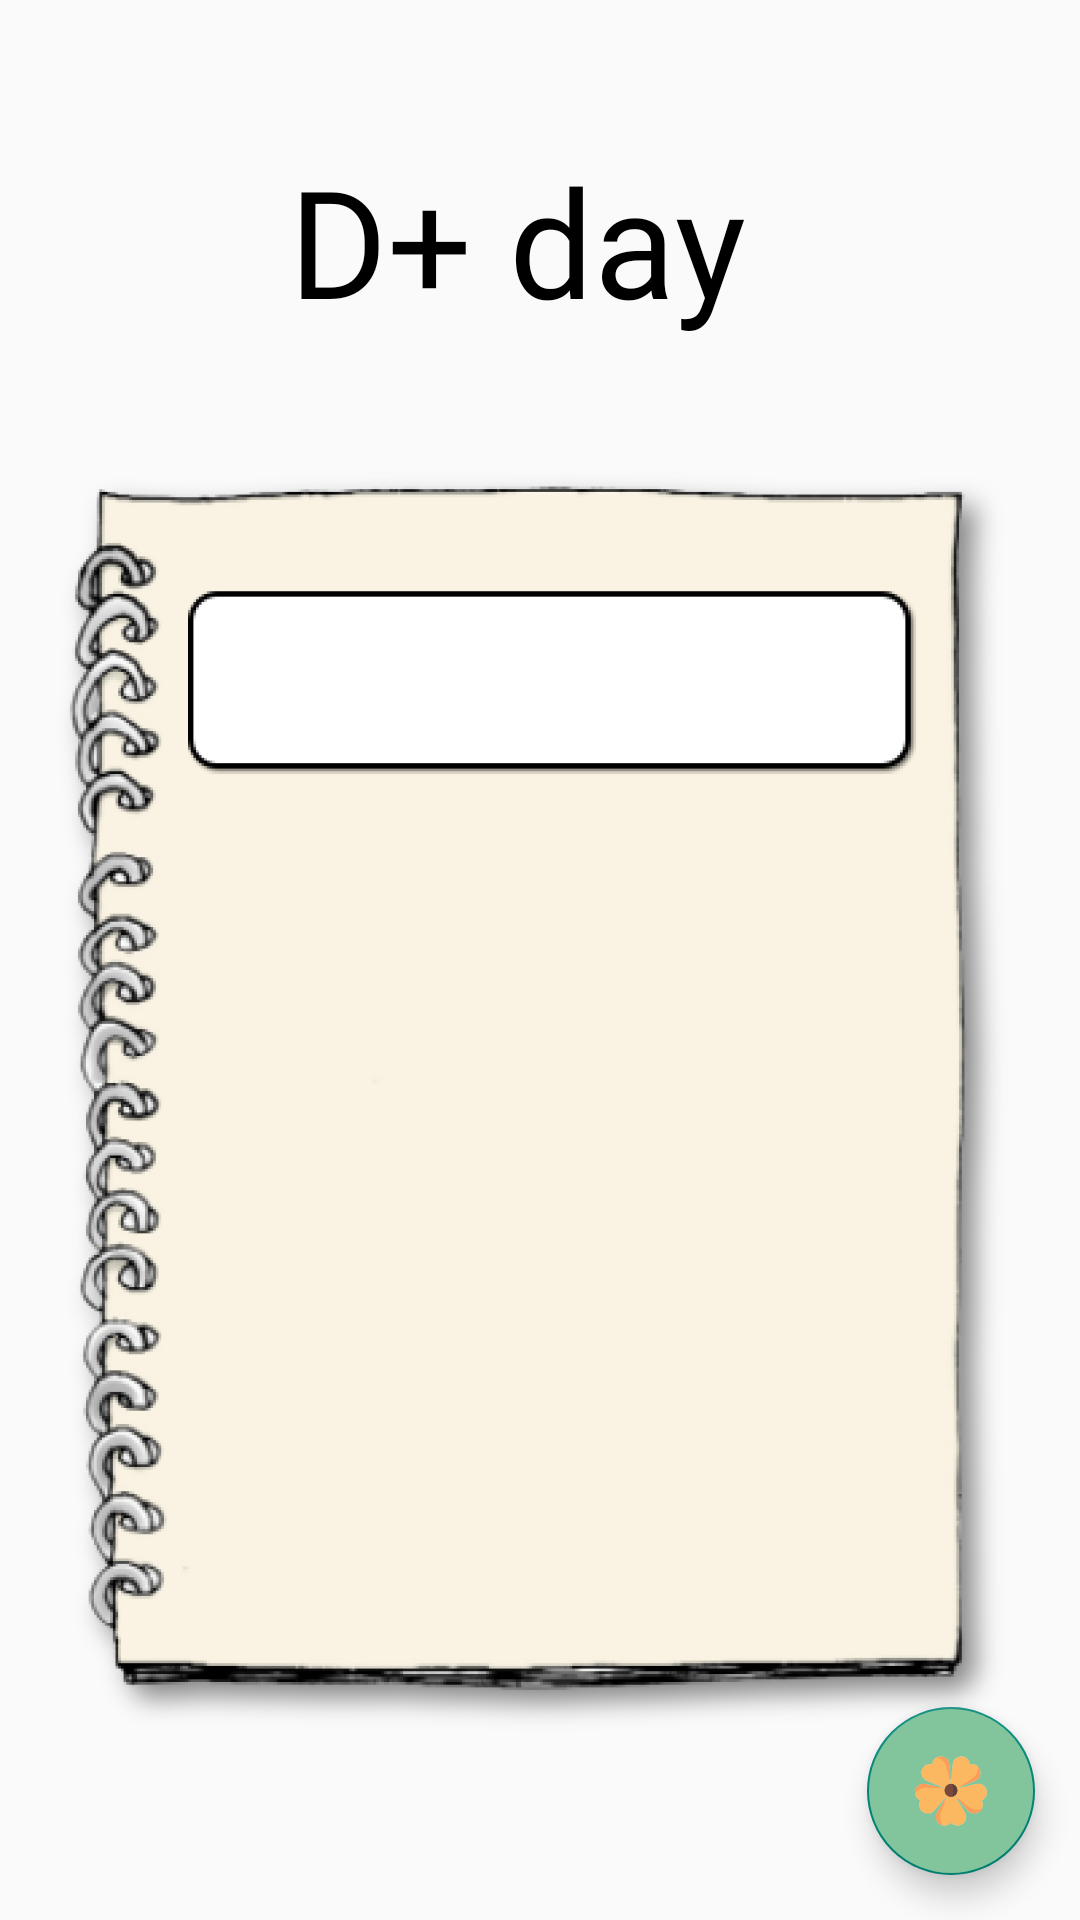

Screen size 1080px×1920px. Icon name, then its box in pixels as detection(x1, y1, x2, y2):
floating flower: detection(867, 1707, 1035, 1875)
